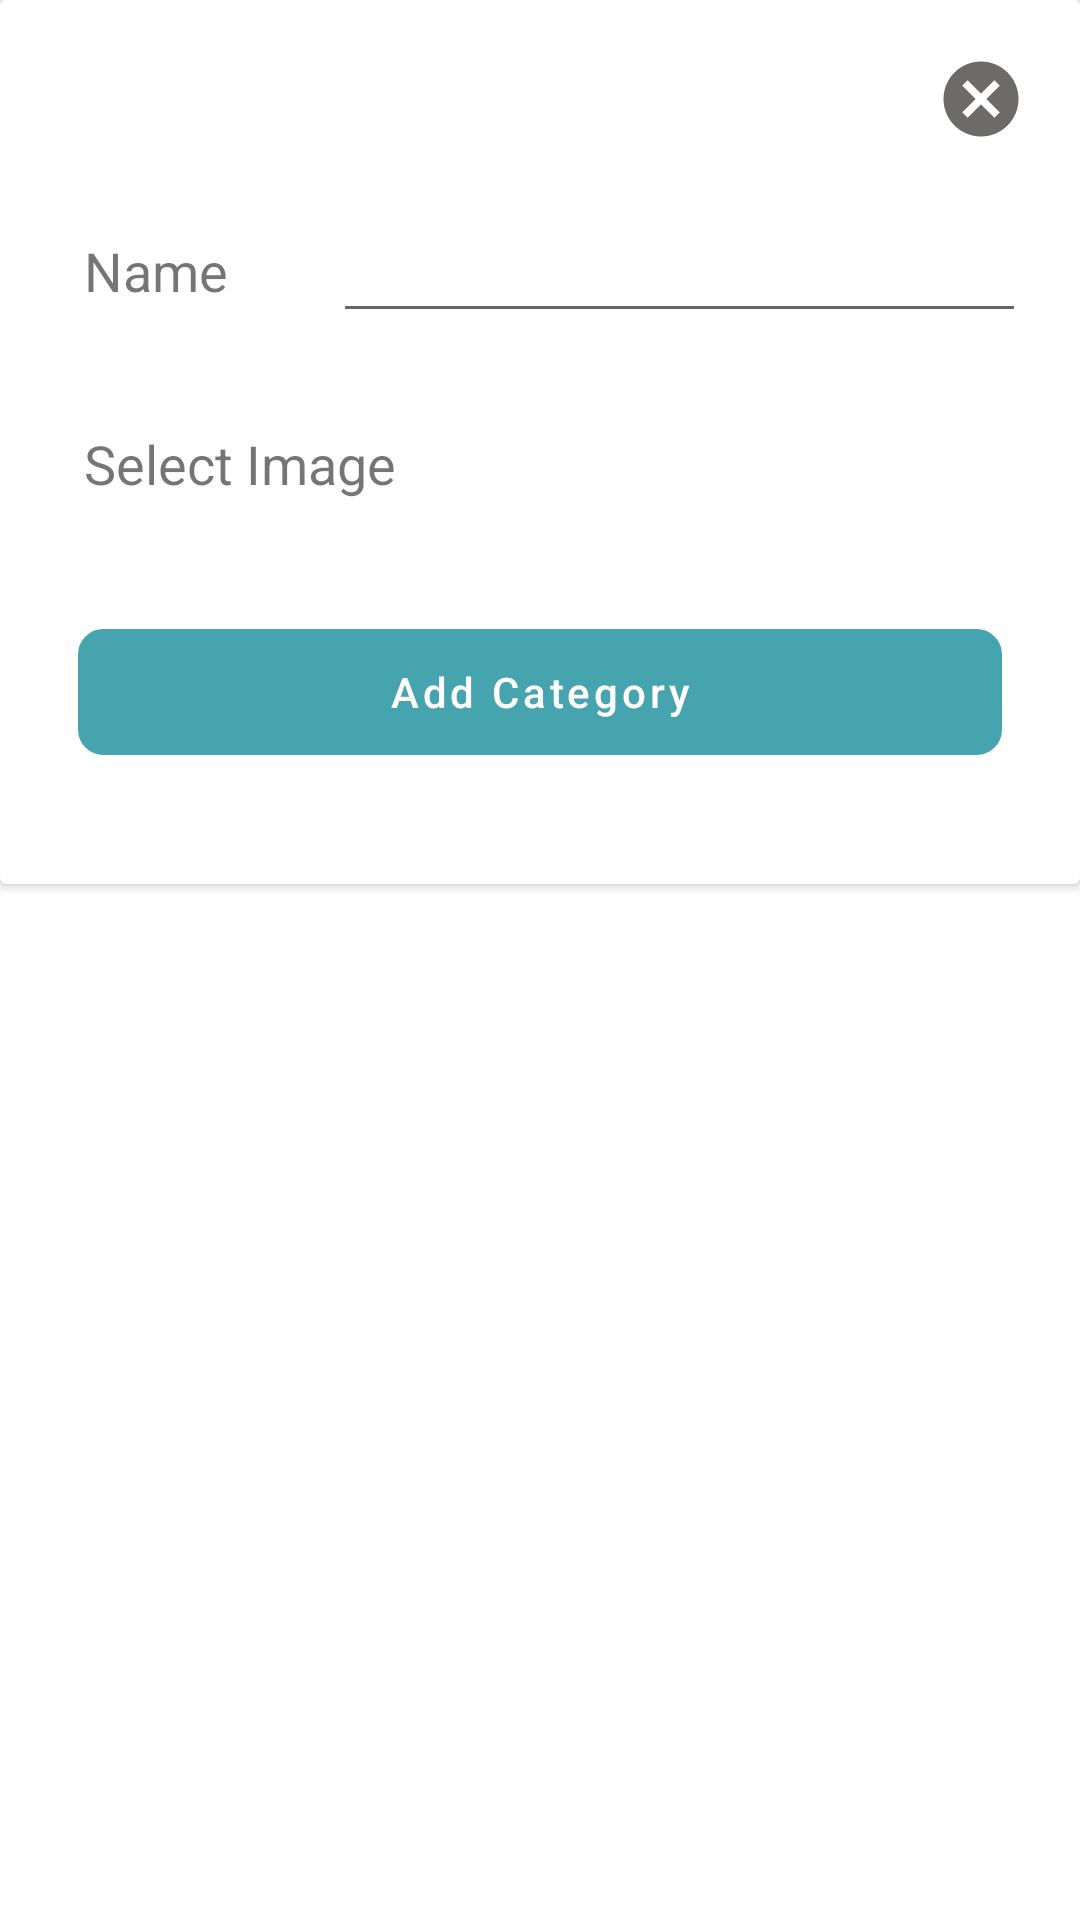

Named icons in this screenshot (1080w x 1920h) and their centers, [x,y]:
cancel: [981,99]
